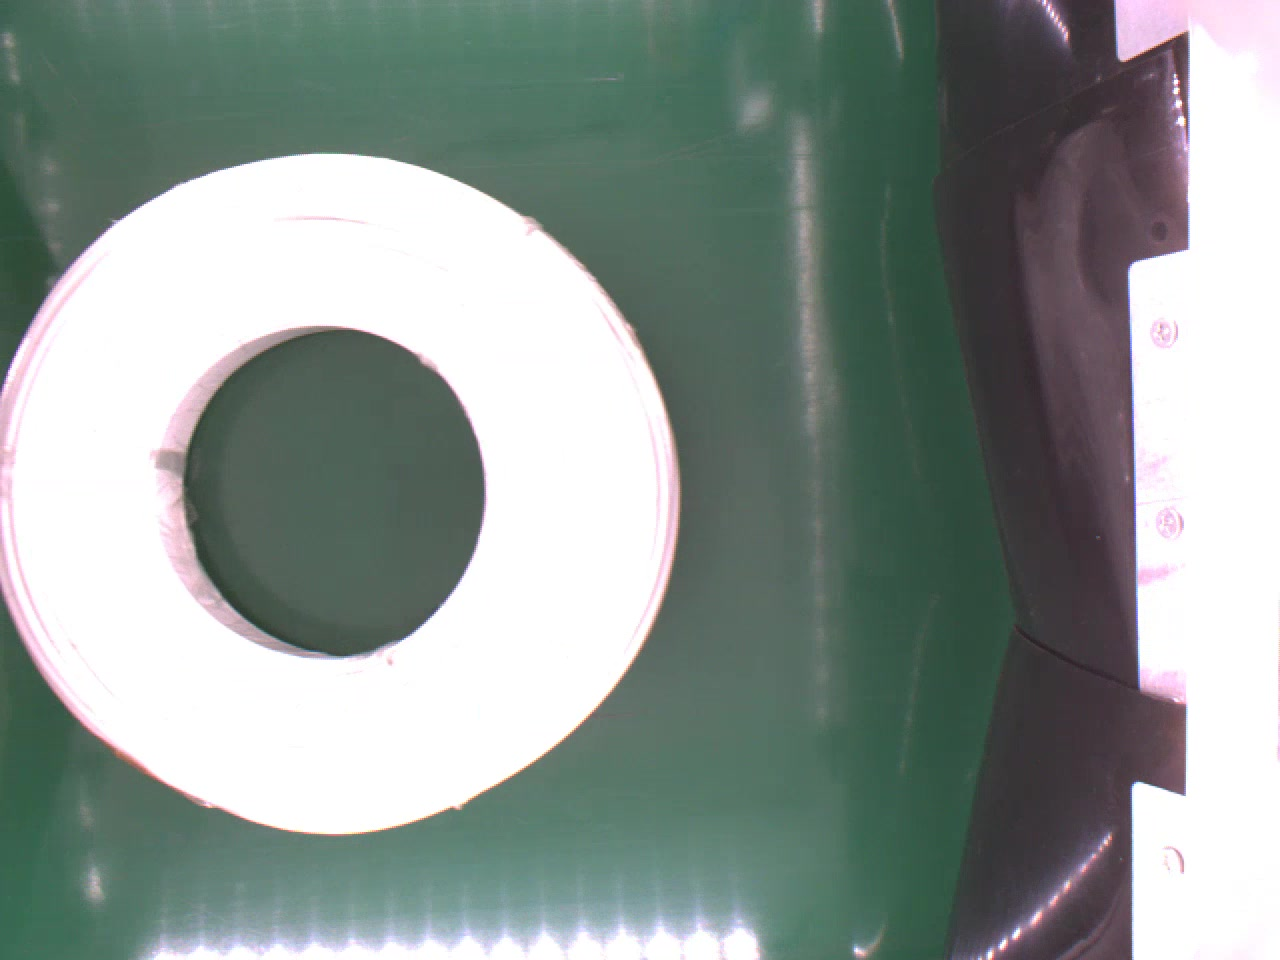white: (0, 151, 686, 837)
